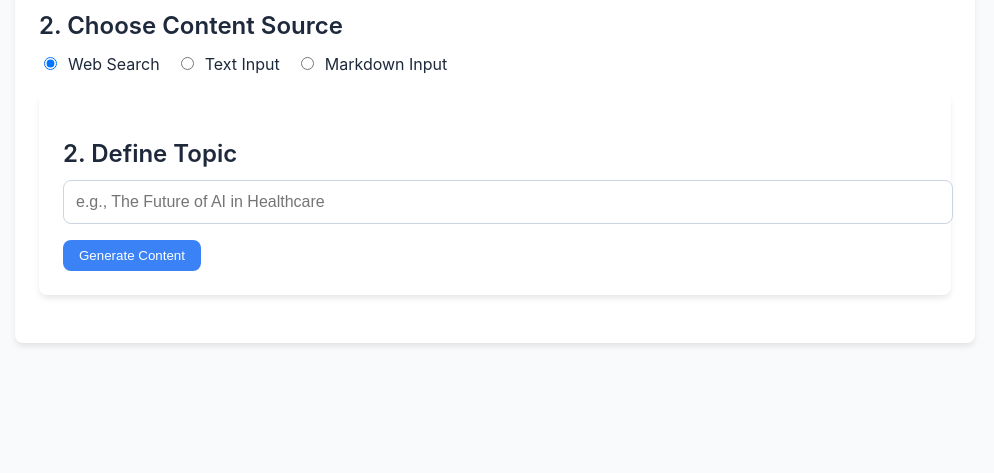
it: ContentInput › Text Input › shows text input tab when selected
Click the radio button labelled "Text Input".
click(187, 63)  # box [181,57,194,70]
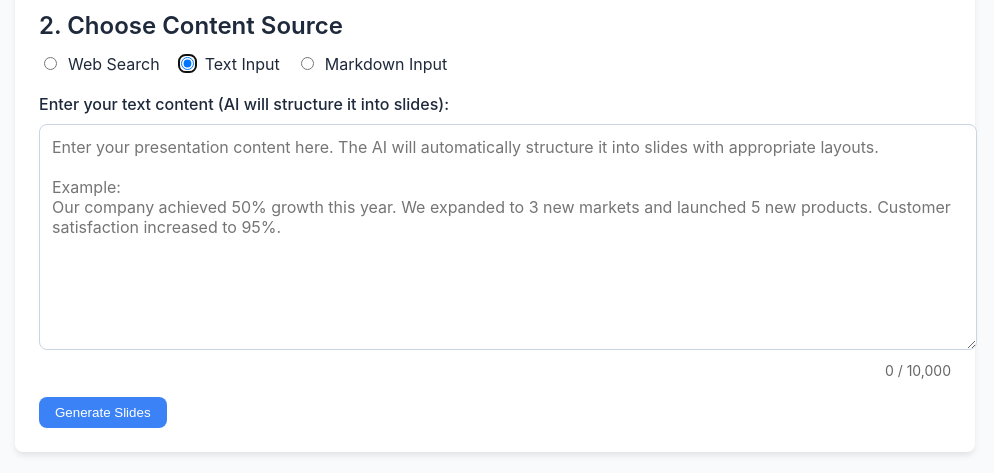
Now the radio button labelled "Text Input" is checked, box [181,57,194,70]
Now the text box with placeholder "Enter your presentation content here" is shown, box [39,124,977,350]
